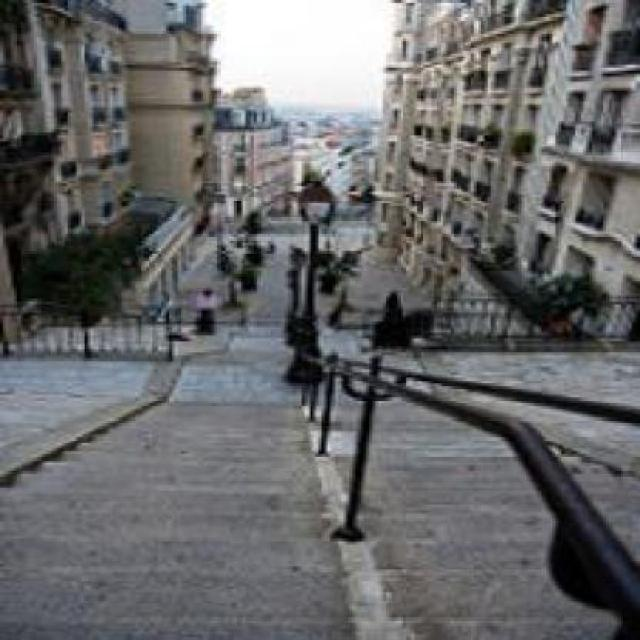stair: (17, 454, 349, 637)
